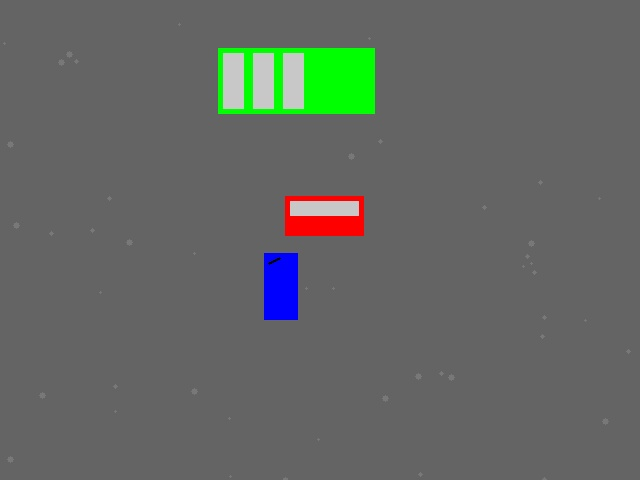bus: (218, 48, 374, 113)
car: (285, 196, 363, 235)
motorcycle: (264, 253, 297, 319)
